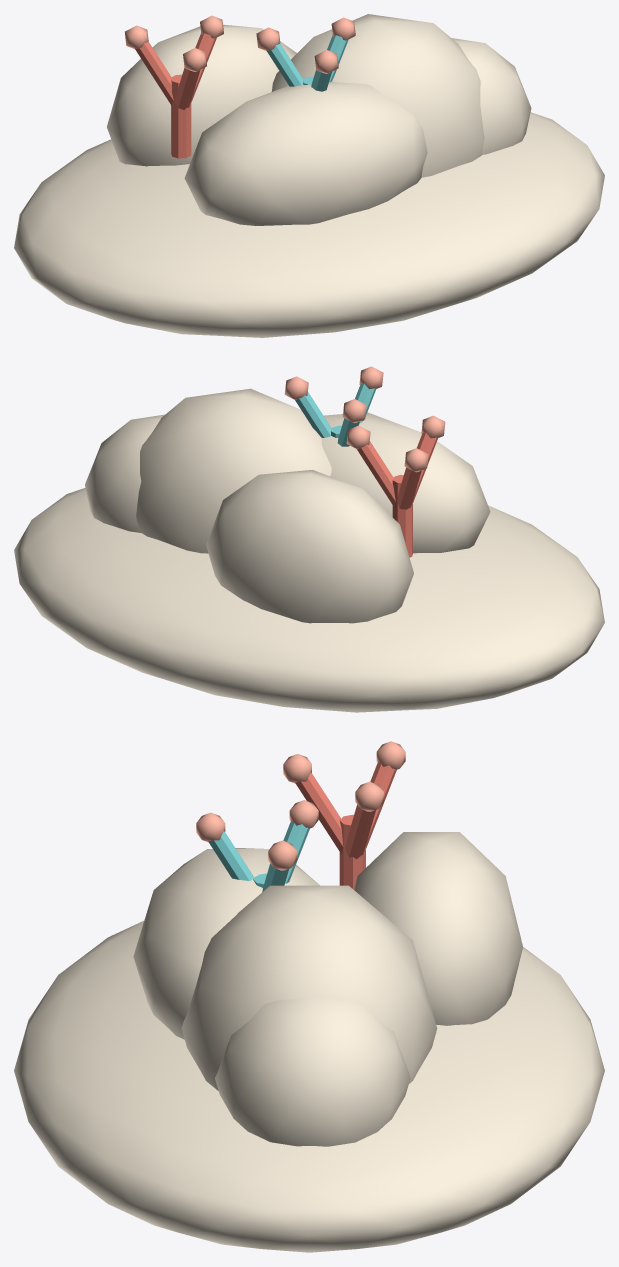
File: reef-01.glb
3 renders of one model, top to bottom at view 1: azimuth 30°, elevation 25°; view 2: azimuth 150°, elevation 25°; view 3: azimuth 270°, elevation 25°, orthographic. The views are drawn at different scales.
Visible parts, largest first — view 1: Sculpted reef base, Reef rock.002, Reef rock, Reef rock.001, Reef rock.003, Coral stem, Coral crown.001, Coral crown.004, Coral crown.002, Coral polyp.002, Coral polyp.005, Coral polyp.004 (+1 smaller); view 2: Sculpted reef base, Reef rock.001, Reef rock, Reef rock.002, Reef rock.003, Coral crown, Coral stem, Coral crown.003, Coral crown.001, Coral polyp.004; view 3: Sculpted reef base, Reef rock, Reef rock.003, Reef rock.001, Reef rock.002, Coral crown.002, Coral stem, Coral crown.005, Coral crown, Coral polyp, Coral polyp.003, Coral polyp.005 (+2 smaller).
Boxes of the visible parts, <box> form: Sculpted reef base: <box>14,112,604,337</box>; Reef rock.002: <box>184,81,427,225</box>; Reef rock: <box>271,14,484,177</box>; Reef rock.001: <box>107,24,296,166</box>; Reef rock.003: <box>452,38,531,154</box>; Coral stem: <box>171,74,191,158</box>; Coral crown.001: <box>134,42,173,105</box>; Coral crown.004: <box>266,44,303,86</box>; Coral crown.002: <box>175,68,200,109</box>; Coral polyp.002: <box>183,48,206,71</box>; Coral polyp.005: <box>314,50,338,73</box>; Coral polyp.004: <box>256,27,280,50</box>; Sculpted reef base: <box>14,488,604,712</box>; Reef rock.001: <box>206,470,413,623</box>; Reef rock: <box>136,388,331,553</box>; Reef rock.002: <box>321,412,490,553</box>; Reef rock.003: <box>85,414,164,532</box>; Coral crown: <box>357,441,395,505</box>; Coral stem: <box>392,474,412,557</box>; Coral crown.003: <box>295,392,331,437</box>; Coral crown.001: <box>396,467,421,509</box>; Coral polyp.004: <box>342,399,366,423</box>; Sculpted reef base: <box>14,921,604,1252</box>; Reef rock: <box>181,885,437,1090</box>; Reef rock.003: <box>215,995,410,1146</box>; Reef rock.001: <box>354,832,522,1025</box>; Reef rock.002: <box>133,848,319,1039</box>; Coral crown.002: <box>295,772,343,854</box>; Coral stem: <box>339,814,365,889</box>; Coral crown.005: <box>208,831,254,880</box>; Coral crown: <box>345,804,375,859</box>; Coral polyp: <box>355,781,383,811</box>; Coral polyp.003: <box>268,840,296,870</box>; Coral polyp.005: <box>196,812,225,842</box>.
Size of the model in its own units: 2.7 by 1.23 by 2.04.
